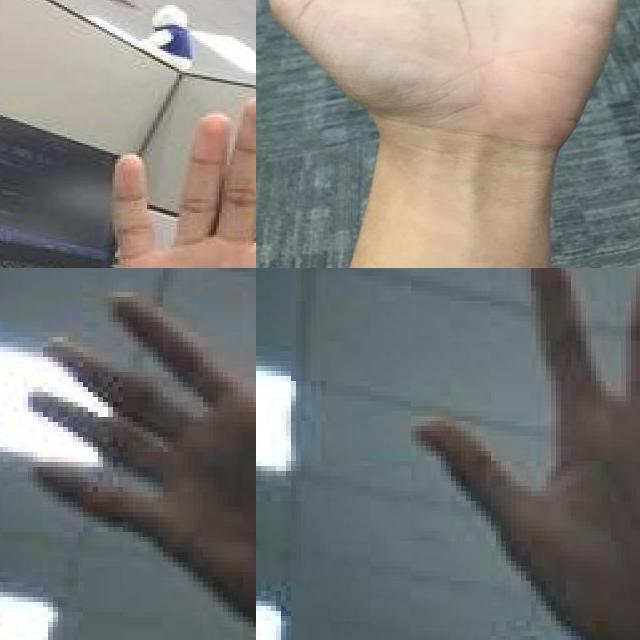no-gloves: (256, 0, 640, 230), (406, 268, 640, 640), (23, 287, 256, 632), (104, 97, 256, 268)
